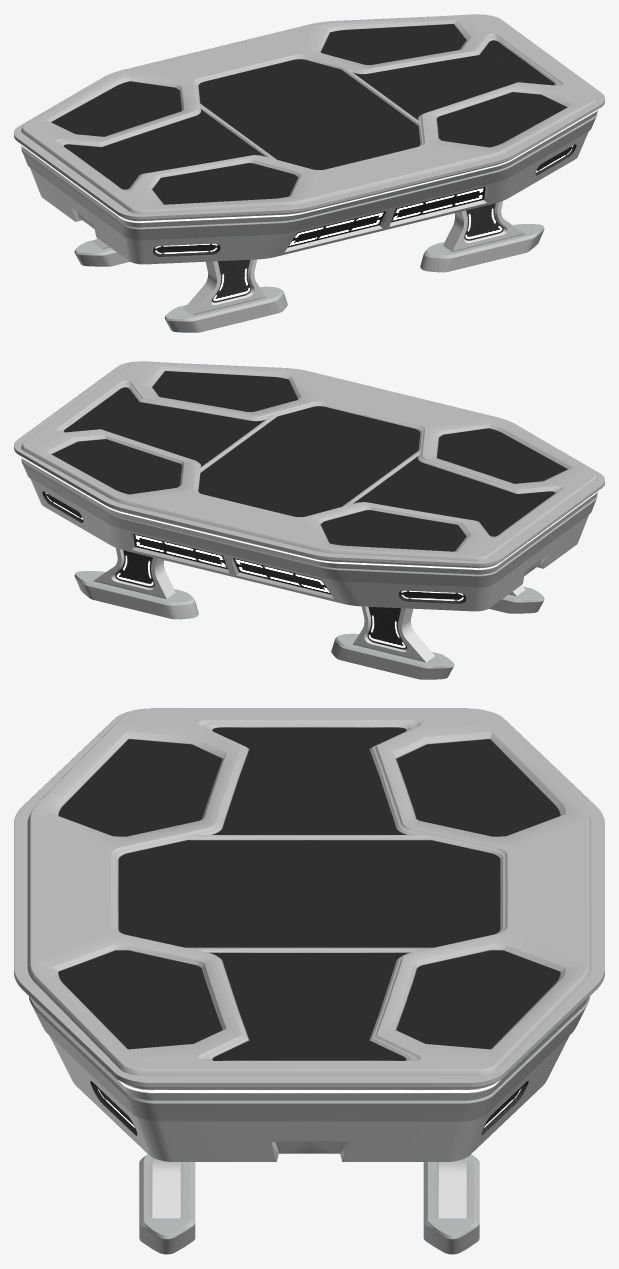
The model's file is Table04_3.FBX.
3 renders of one model, top to bottom at view 1: azimuth 30°, elevation 25°; view 2: azimuth 150°, elevation 25°; view 3: azimuth 270°, elevation 25°, orthographic. The views are drawn at different scales.
Parts seen in each view (by area): view 1: Table04_3; view 2: Table04_3; view 3: Table04_3.
Part boxes in pixels (left/top/right/bottom): Table04_3: left=14, top=14, right=604, bottom=332; Table04_3: left=14, top=361, right=604, bottom=679; Table04_3: left=14, top=708, right=604, bottom=1254.
Size of what is drawn, in the model's own units: 3.31 by 0.9205 by 2.21.
